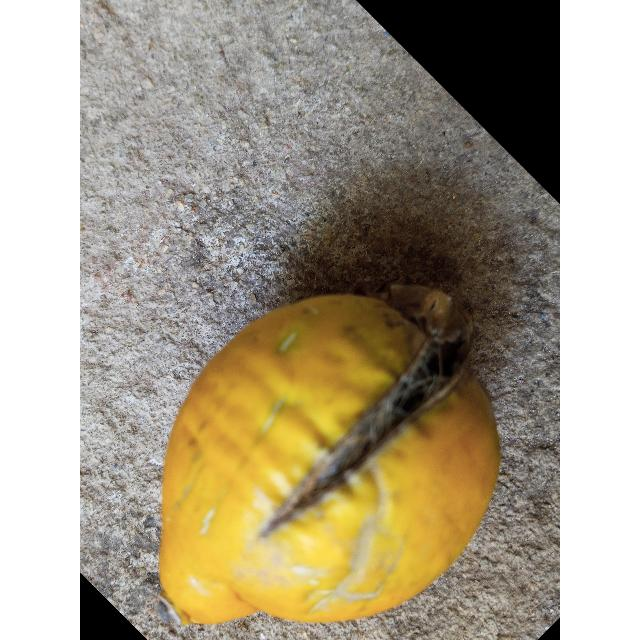damaged: (159, 294, 499, 625)
